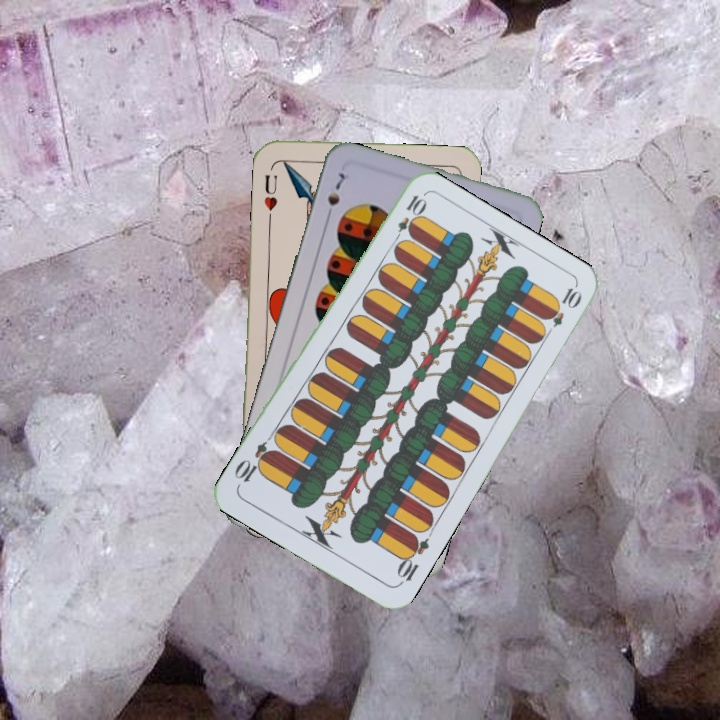E10: (392, 531, 432, 588), (389, 191, 428, 247)
HU: (260, 171, 280, 213)
S7: (322, 168, 348, 223)
